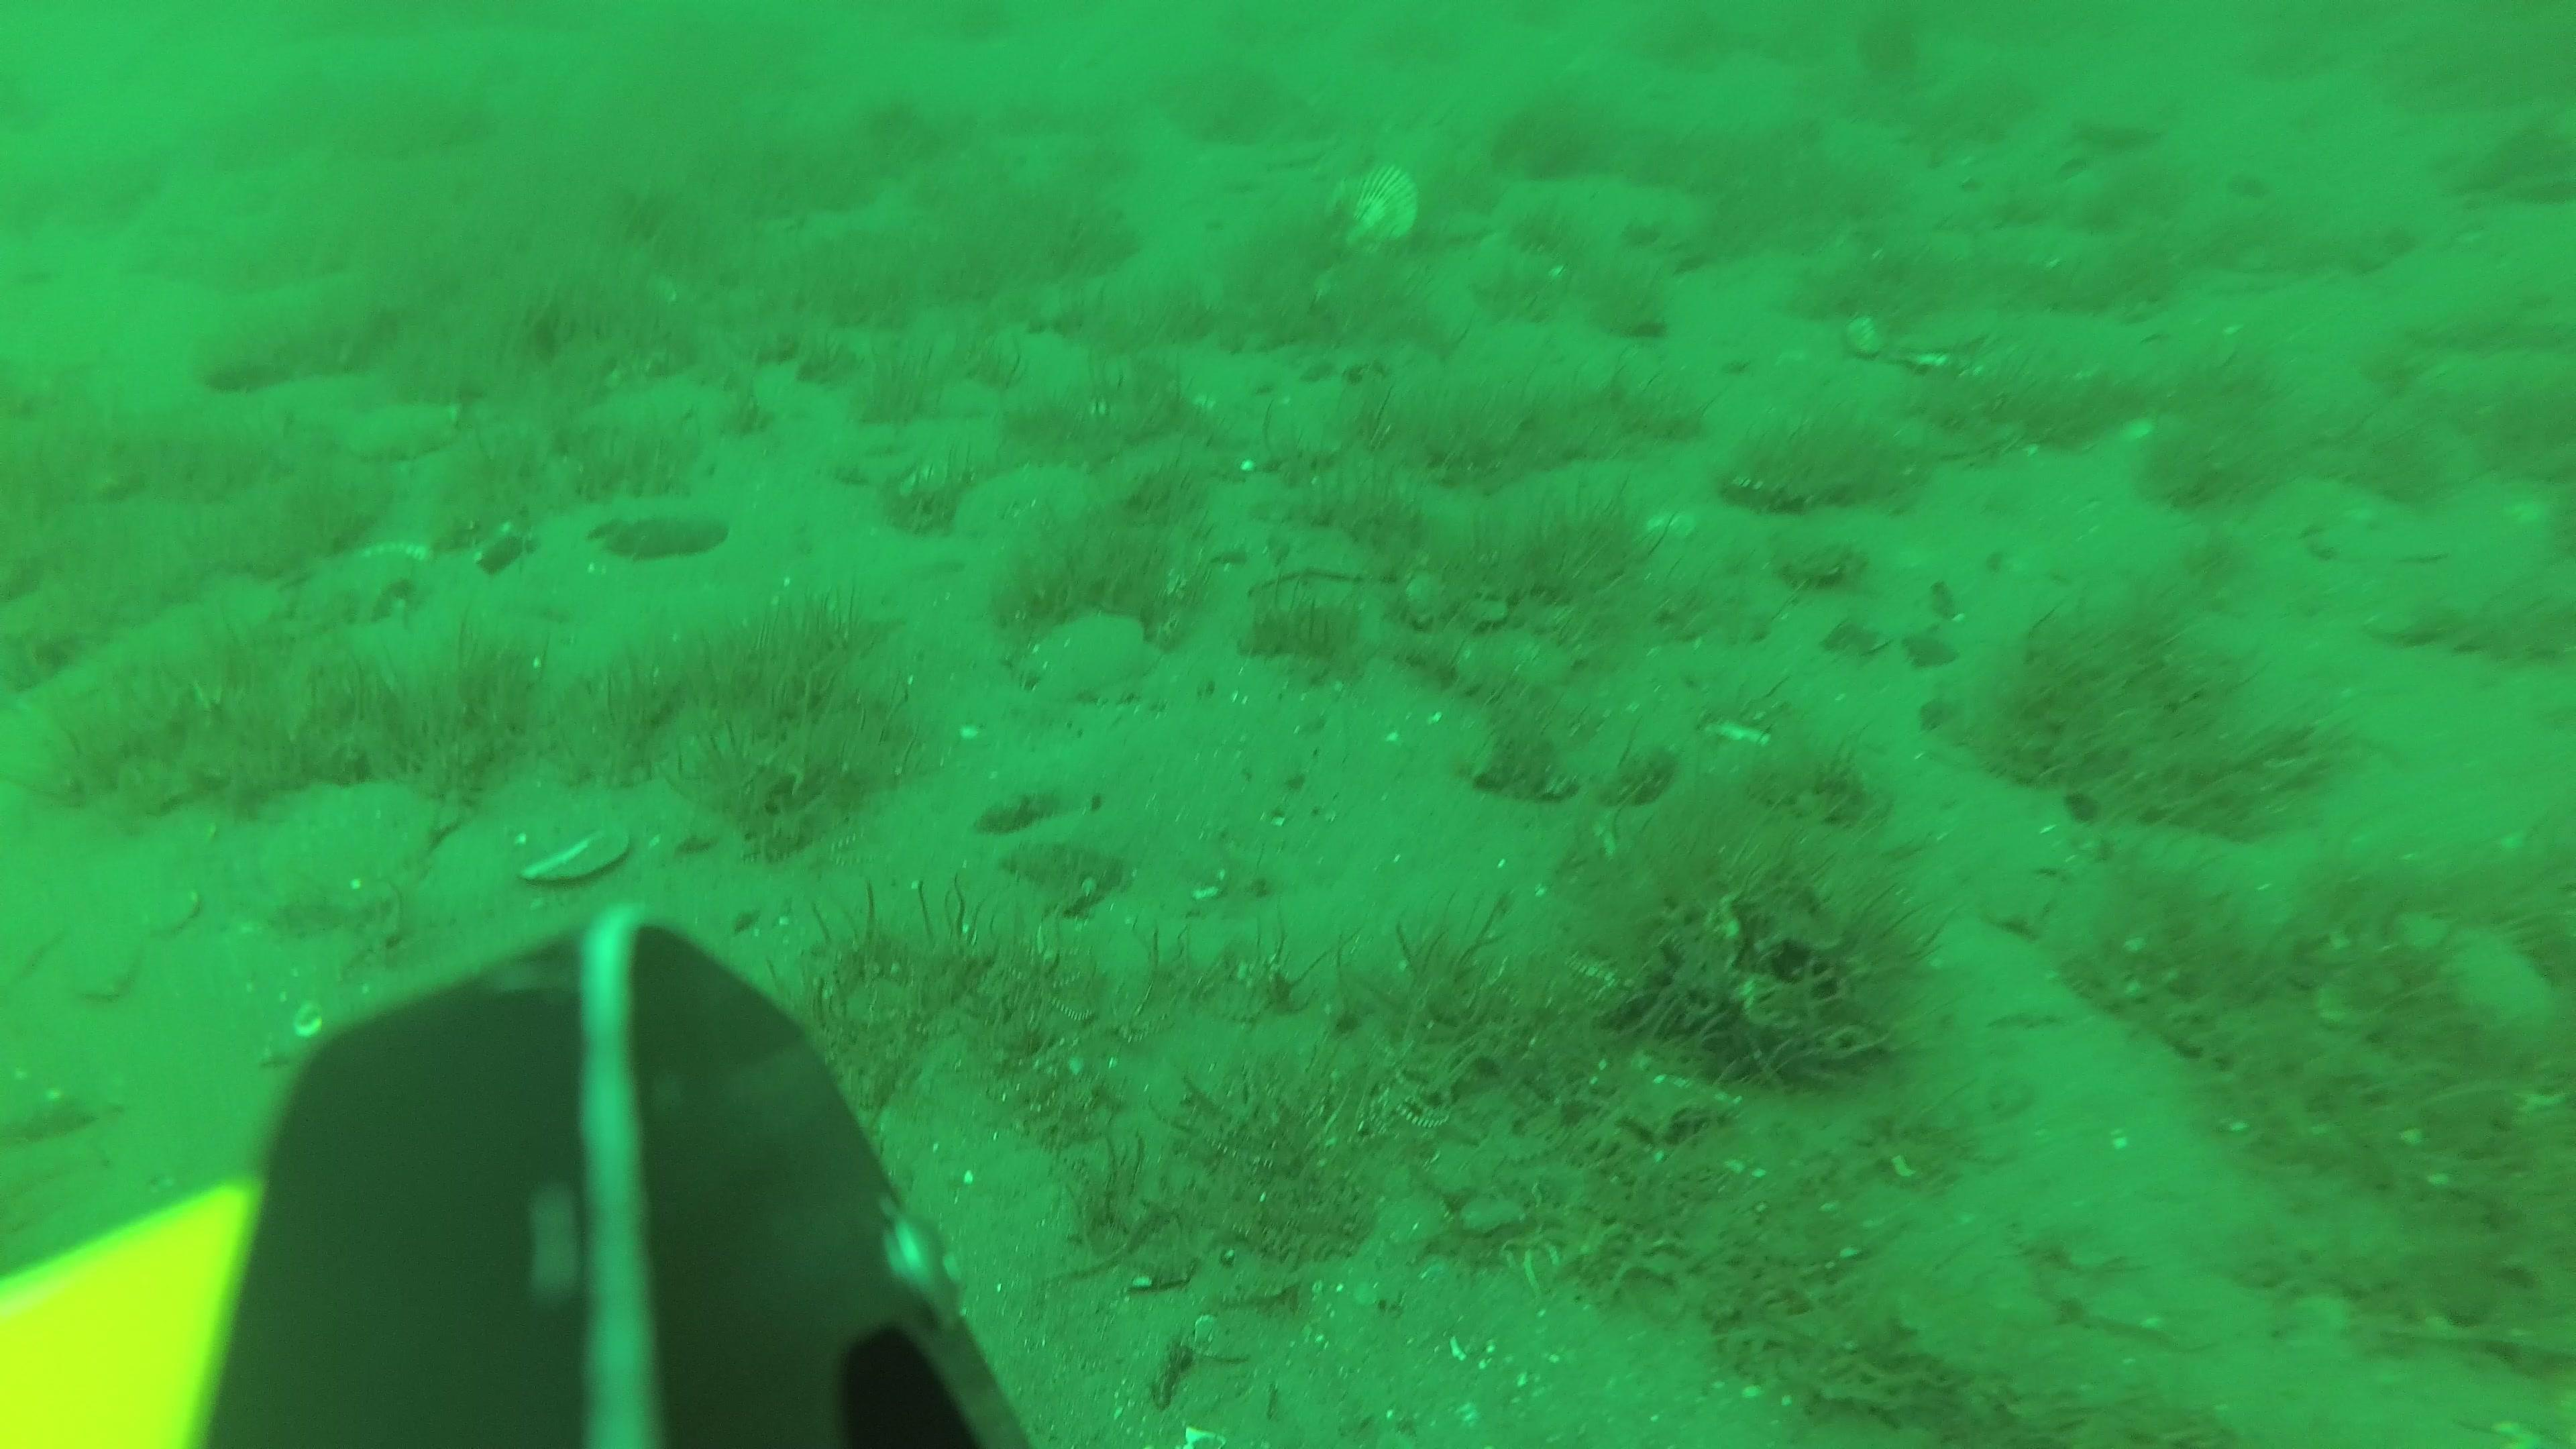scallop: (272, 782, 453, 911), (1851, 295, 2003, 372), (1023, 616, 1166, 695), (331, 395, 460, 462), (1322, 173, 1415, 255)
